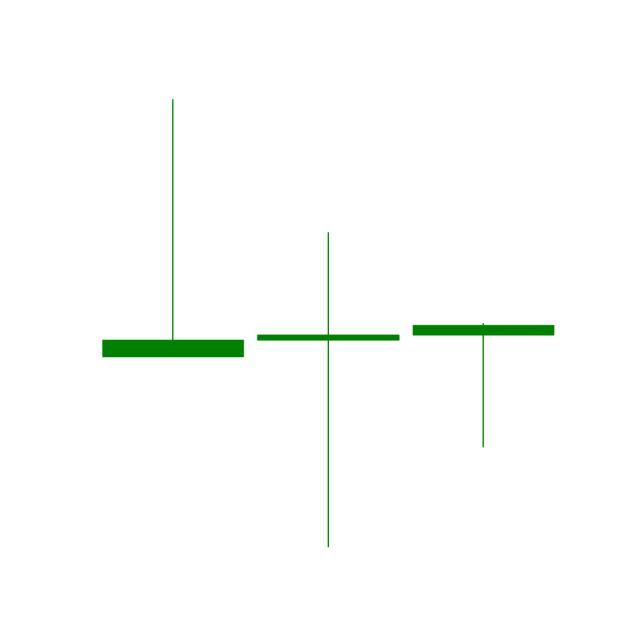Dragonfly Doji: (405, 322, 561, 449)
Gravenstone Doji: (97, 96, 248, 362)
Long-Legged Doji: (254, 225, 401, 554)
